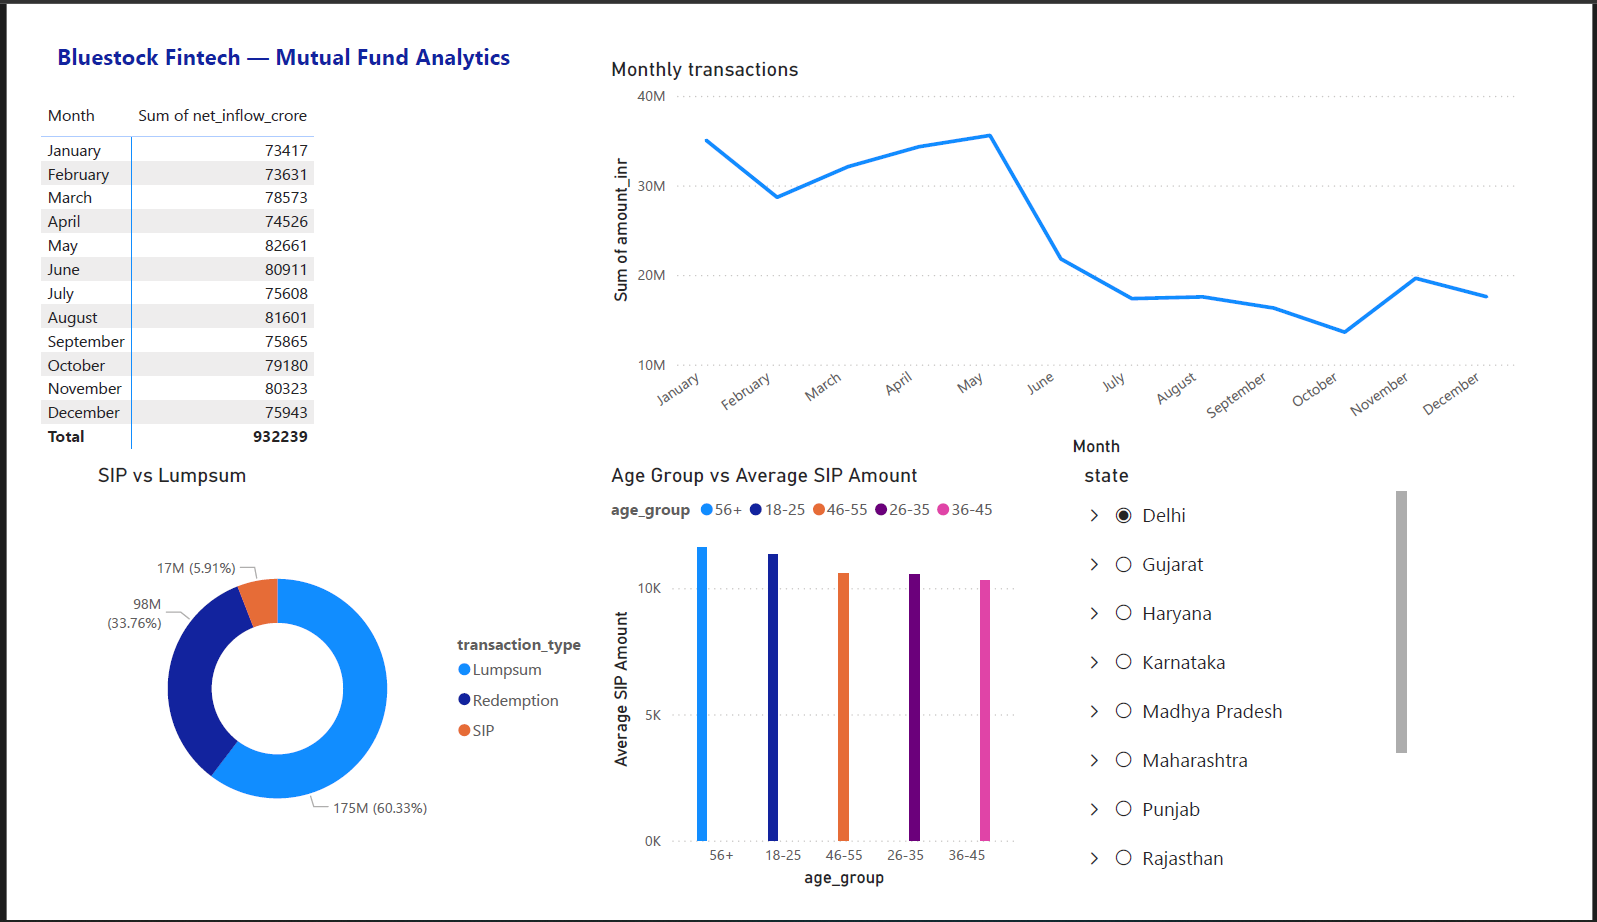

The dashboard page shown, as its layout file describes it:
{"tool":"powerbi","page":{"name":"Investor Analytics","canvas":[1280,720],"ordinal":2},"visuals":[{"type":"donutChart","title":"SIP vs Lumpsum","fields":{"Category":["08_investor_transactions.transaction_type"],"Y":["Sum(08_investor_transactions.amount_inr)"]},"box":[47.3,359.8,429.4,359.8],"z":0},{"type":"clusteredColumnChart","title":"Age Group vs Average SIP Amount","fields":{"Category":["08_investor_transactions.age_group"],"Y":["SIP.Average SIP Amount"],"Series":["08_investor_transactions.age_group"]},"box":[476.7,359.8,349.3,359.8],"z":1000},{"type":"lineChart","title":"Monthly transactions","fields":{"Category":["08_investor_transactions.transaction_date.Variation.Date Hierarchy.Year","08_investor_transactions.transaction_date.Variation.Date Hierarchy.Quarter","08_investor_transactions.transaction_date.Variation.Date Hierarchy.Month","08_investor_transactions.transaction_date.Variation.Date Hierarchy.Day"],"Y":["Sum(08_investor_transactions.amount_inr)"]},"box":[476.7,19.7,766.8,340.1],"z":2000},{"type":"listSlicer","fields":{"Values":["08_investor_transactions.state","08_investor_transactions.age_group","08_investor_transactions.city_tier"]},"box":[873.2,359.8,279.7,359.8],"z":3000},{"type":"pivotTable","fields":{"Rows":["05_category_inflows.category","05_category_inflows.month.Variation.Date Hierarchy.Year","05_category_inflows.month.Variation.Date Hierarchy.Quarter","05_category_inflows.month.Variation.Date Hierarchy.Month","05_category_inflows.month.Variation.Date Hierarchy.Day"],"Values":["Sum(05_category_inflows.net_inflow_crore)"]},"box":[0,53.9,476,306.2],"z":4000},{"type":"textbox","box":[12.7,1.6,426.8,36.5],"z":5000}]}

Visuals, with their boxes in screenshot pixels (x1, y1, x2, y2), scaled from the page's 1280x720 canvas onto the 1597x922 screenshot:
"SIP vs Lumpsum" donutChart: [59, 461, 595, 921]
"Age Group vs Average SIP Amount" clusteredColumnChart: [595, 461, 1031, 921]
"Monthly transactions" lineChart: [595, 25, 1551, 461]
listSlicer - 08_investor_transactions.state x 08_investor_transactions.age_group: [1089, 461, 1438, 921]
pivotTable - 05_category_inflows.category x 05_category_inflows.month.Variation.Date Hierarchy.Year: [0, 69, 594, 461]
textbox: [16, 2, 548, 49]
